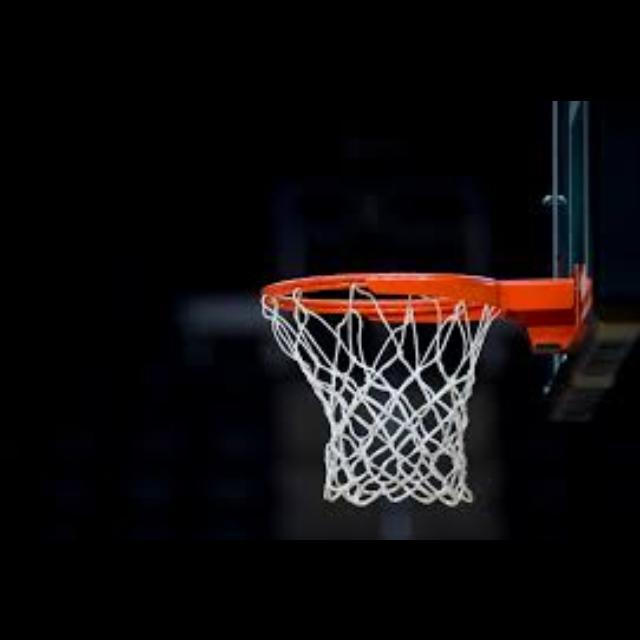rim: (260, 270, 498, 504)
